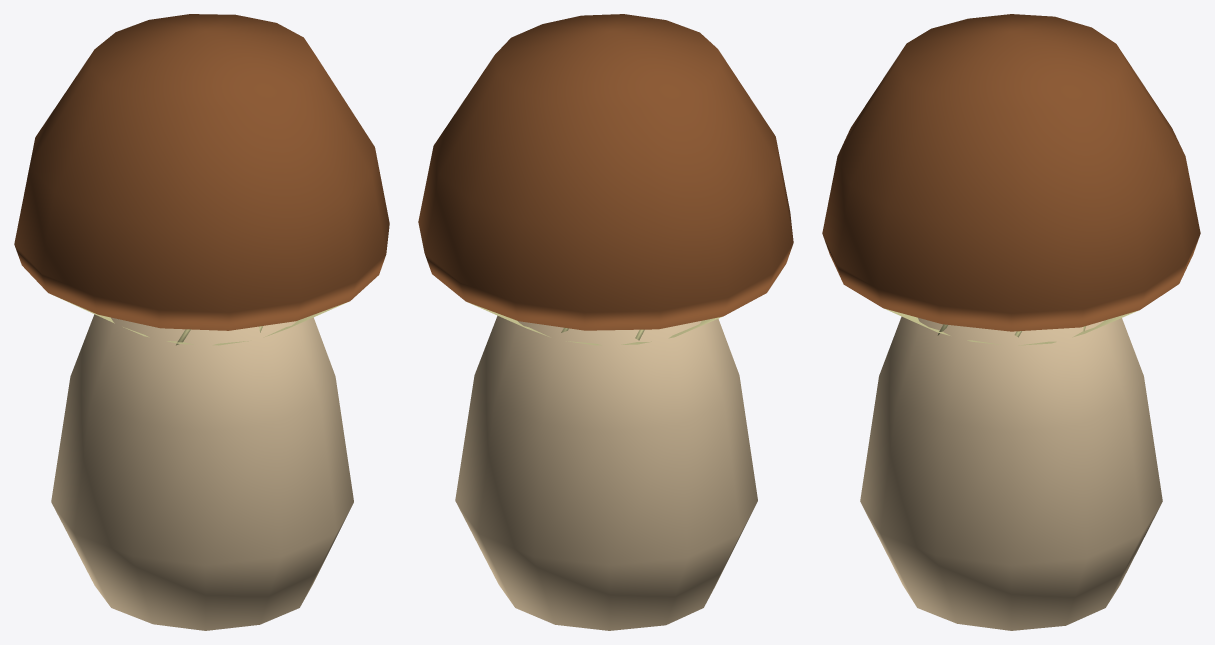
File: porcini-button.glb
3 renders of one model, left to right at view 1: azimuth 30°, elevation 25°; view 2: azimuth 150°, elevation 25°; view 3: azimuth 270°, elevation 25°, orthographic.
Visible parts, largest first — view 1: fungus_porcini-button_LOD0; view 2: fungus_porcini-button_LOD0; view 3: fungus_porcini-button_LOD0.
Part boxes in pixels (box(x1,y1,x2,y2)): fungus_porcini-button_LOD0: box(14, 14, 389, 630); fungus_porcini-button_LOD0: box(418, 14, 793, 630); fungus_porcini-button_LOD0: box(822, 14, 1200, 630).
Size of the model in its own units: 0.08 by 0.129 by 0.08.
